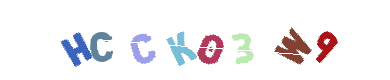0: (185, 0, 265, 80)
3: (196, 0, 276, 80)
9: (286, 0, 366, 80)
C: (59, 0, 139, 80), (114, 0, 194, 80)
H: (37, 0, 117, 80)
K: (154, 0, 234, 80)
W: (253, 0, 333, 80)
